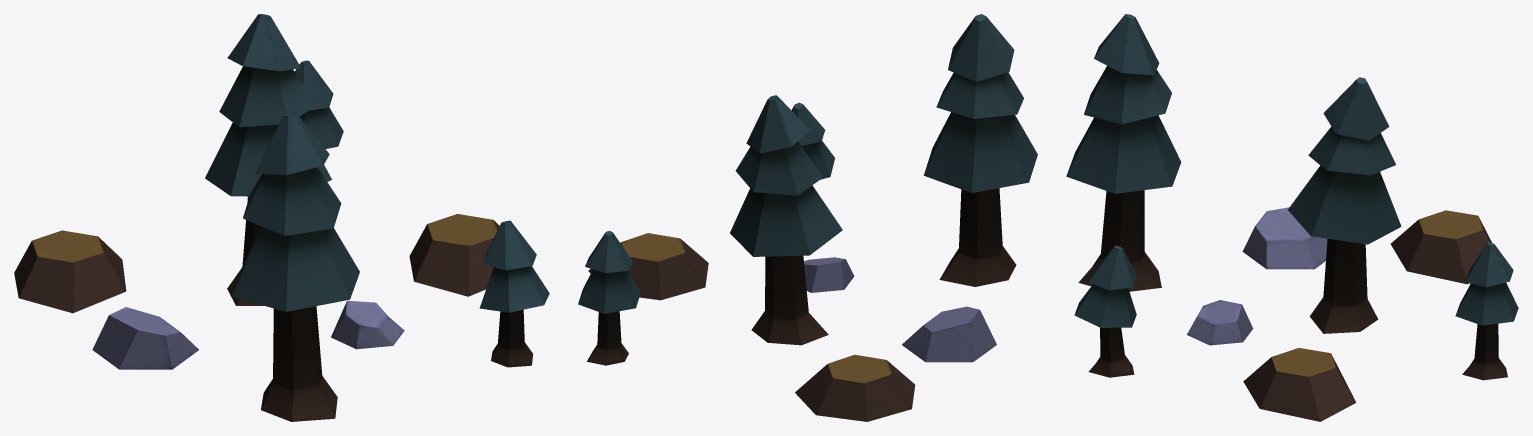
File: tile_wood_5_lod0.fbx
3 renders of one model, left to right at view 1: azimuth 30°, elevation 25°; view 2: azimuth 150°, elevation 25°; view 3: azimuth 270°, elevation 25°, orthographic. The views are drawn at different scales.
Visible parts, largest first — view 1: wood_5_lod0; view 2: wood_5_lod0; view 3: wood_5_lod0.
Part boxes in pixels (x1,y1,x2,y2): wood_5_lod0: (14, 14, 549, 421); wood_5_lod0: (578, 14, 1037, 421); wood_5_lod0: (1066, 14, 1518, 421).
Bounding box in the file's own units: 0.049 × 0.0315 × 0.0495.
